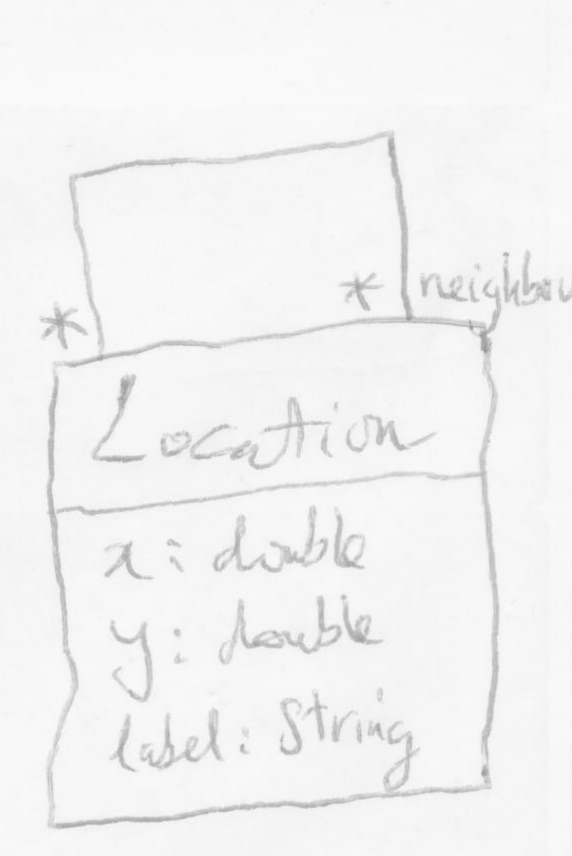association: (23, 129, 572, 362)
class attributes: (40, 313, 497, 835)
